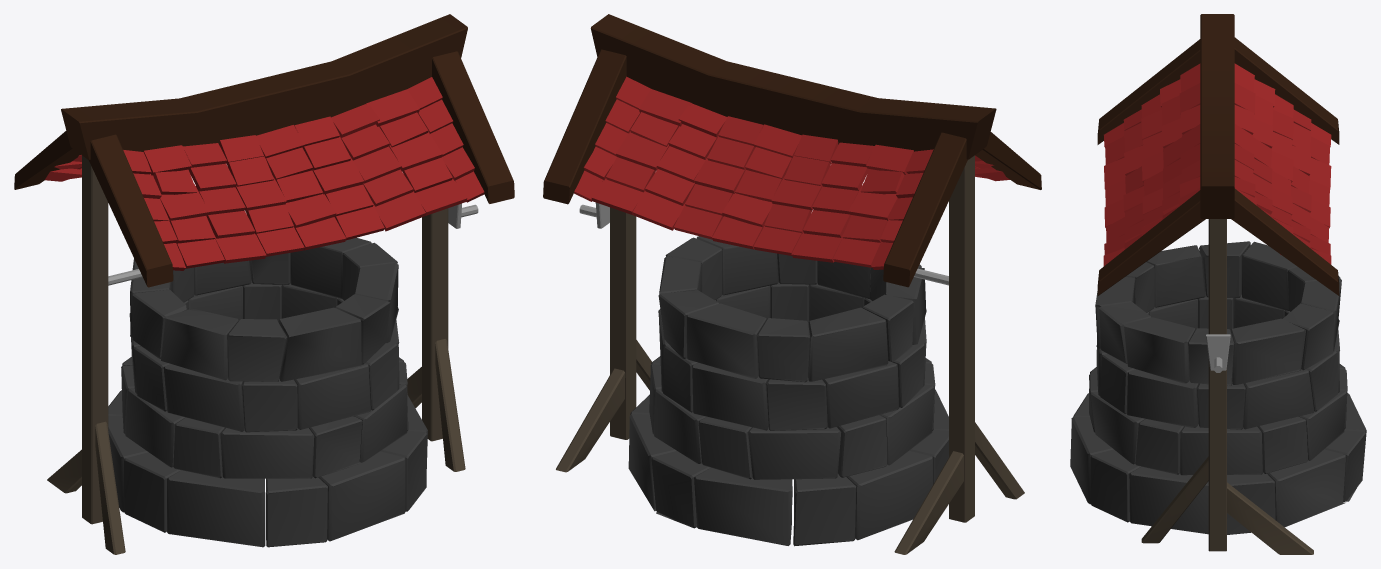
Rendered from puit2.FBX.
3 views of the same model, side by side, from view 1: azimuth 30°, elevation 25°; view 2: azimuth 150°, elevation 25°; view 3: azimuth 270°, elevation 25° (orthographic). The views are drawn at different scales.
Visible parts, largest first — view 1: LE PUIT PIERRE, reste, Box018, Box017; view 2: LE PUIT PIERRE, reste, Box018, Box017; view 3: LE PUIT PIERRE, reste, Box018, Box017, Object.
Part boxes in pixels (x1,y1,x2,y2): LE PUIT PIERRE: (108, 237, 427, 547); reste: (45, 77, 484, 270); Box018: (14, 14, 514, 287); Box017: (47, 155, 465, 554); LE PUIT PIERRE: (628, 236, 948, 546); reste: (574, 76, 1009, 269); Box018: (543, 14, 1041, 287); Box017: (556, 155, 1024, 554); LE PUIT PIERRE: (1070, 241, 1366, 534); reste: (1103, 63, 1331, 266); Box018: (1097, 14, 1339, 295); Box017: (1141, 219, 1313, 554); Object: (1206, 334, 1230, 370).
Bounding box in the file's own units: 274 × 265 × 191.
